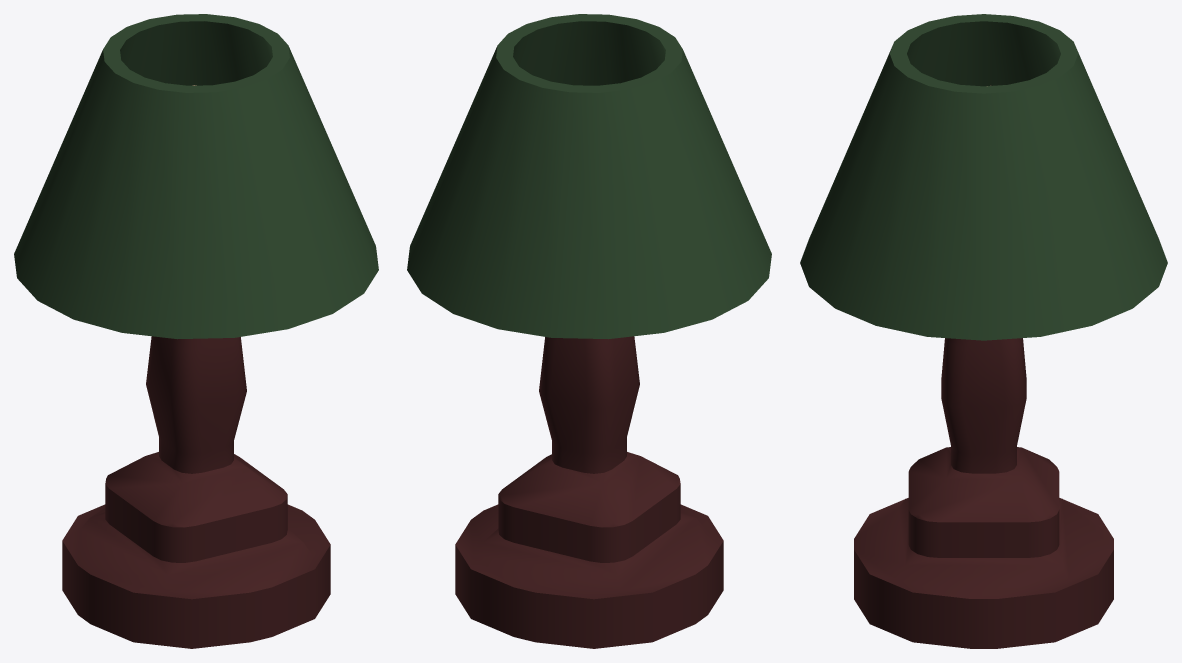
The model's file is Bedroom_Lamp_small.fbx.
3 renders of one model, left to right at view 1: azimuth 30°, elevation 25°; view 2: azimuth 150°, elevation 25°; view 3: azimuth 270°, elevation 25°, orthographic.
Visible parts, largest first — view 1: Bedroom_Lamp_small; view 2: Bedroom_Lamp_small; view 3: Bedroom_Lamp_small.
Boxes of the visible parts, left/top/right/bottom form: Bedroom_Lamp_small: left=14, top=14, right=378, bottom=648; Bedroom_Lamp_small: left=407, top=14, right=771, bottom=648; Bedroom_Lamp_small: left=800, top=14, right=1167, bottom=648.
Size of the model in its own units: 24.21 by 39.22 by 24.21.
